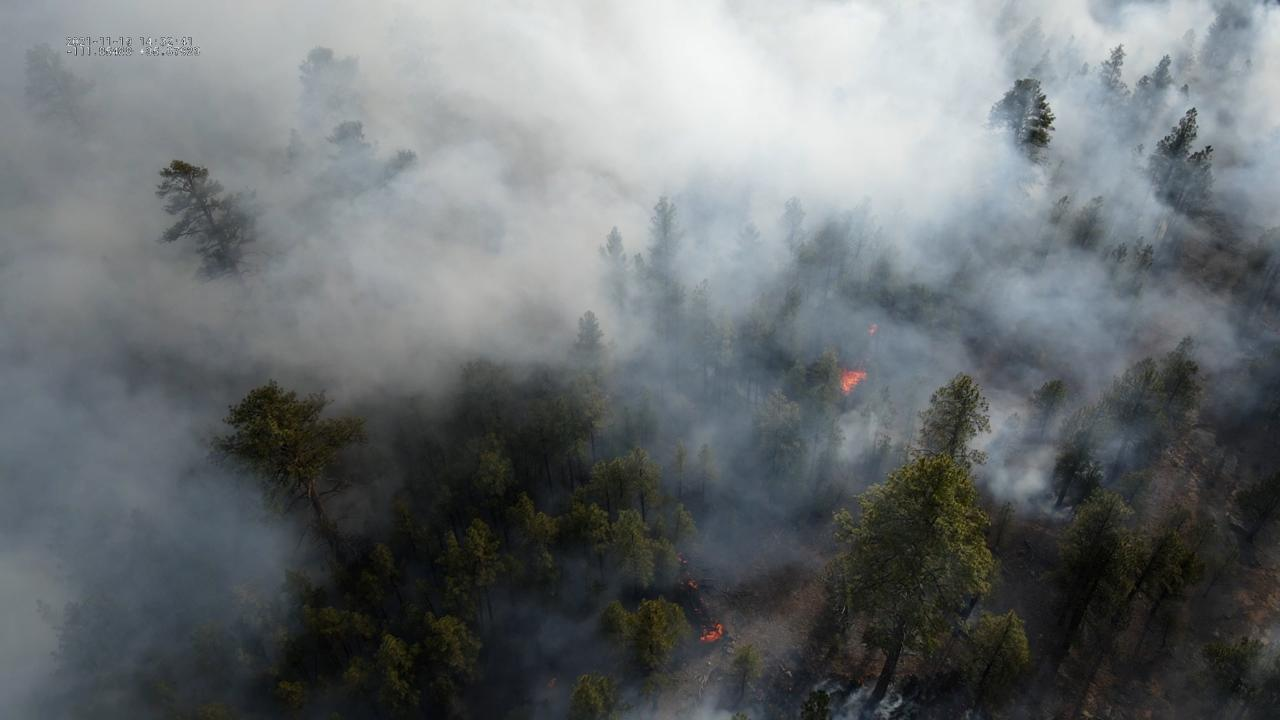fire: (838, 368, 867, 399), (698, 622, 724, 645), (545, 676, 558, 691), (866, 323, 879, 337), (674, 552, 689, 564), (687, 579, 700, 591)
smoke: (0, 0, 1280, 720)
